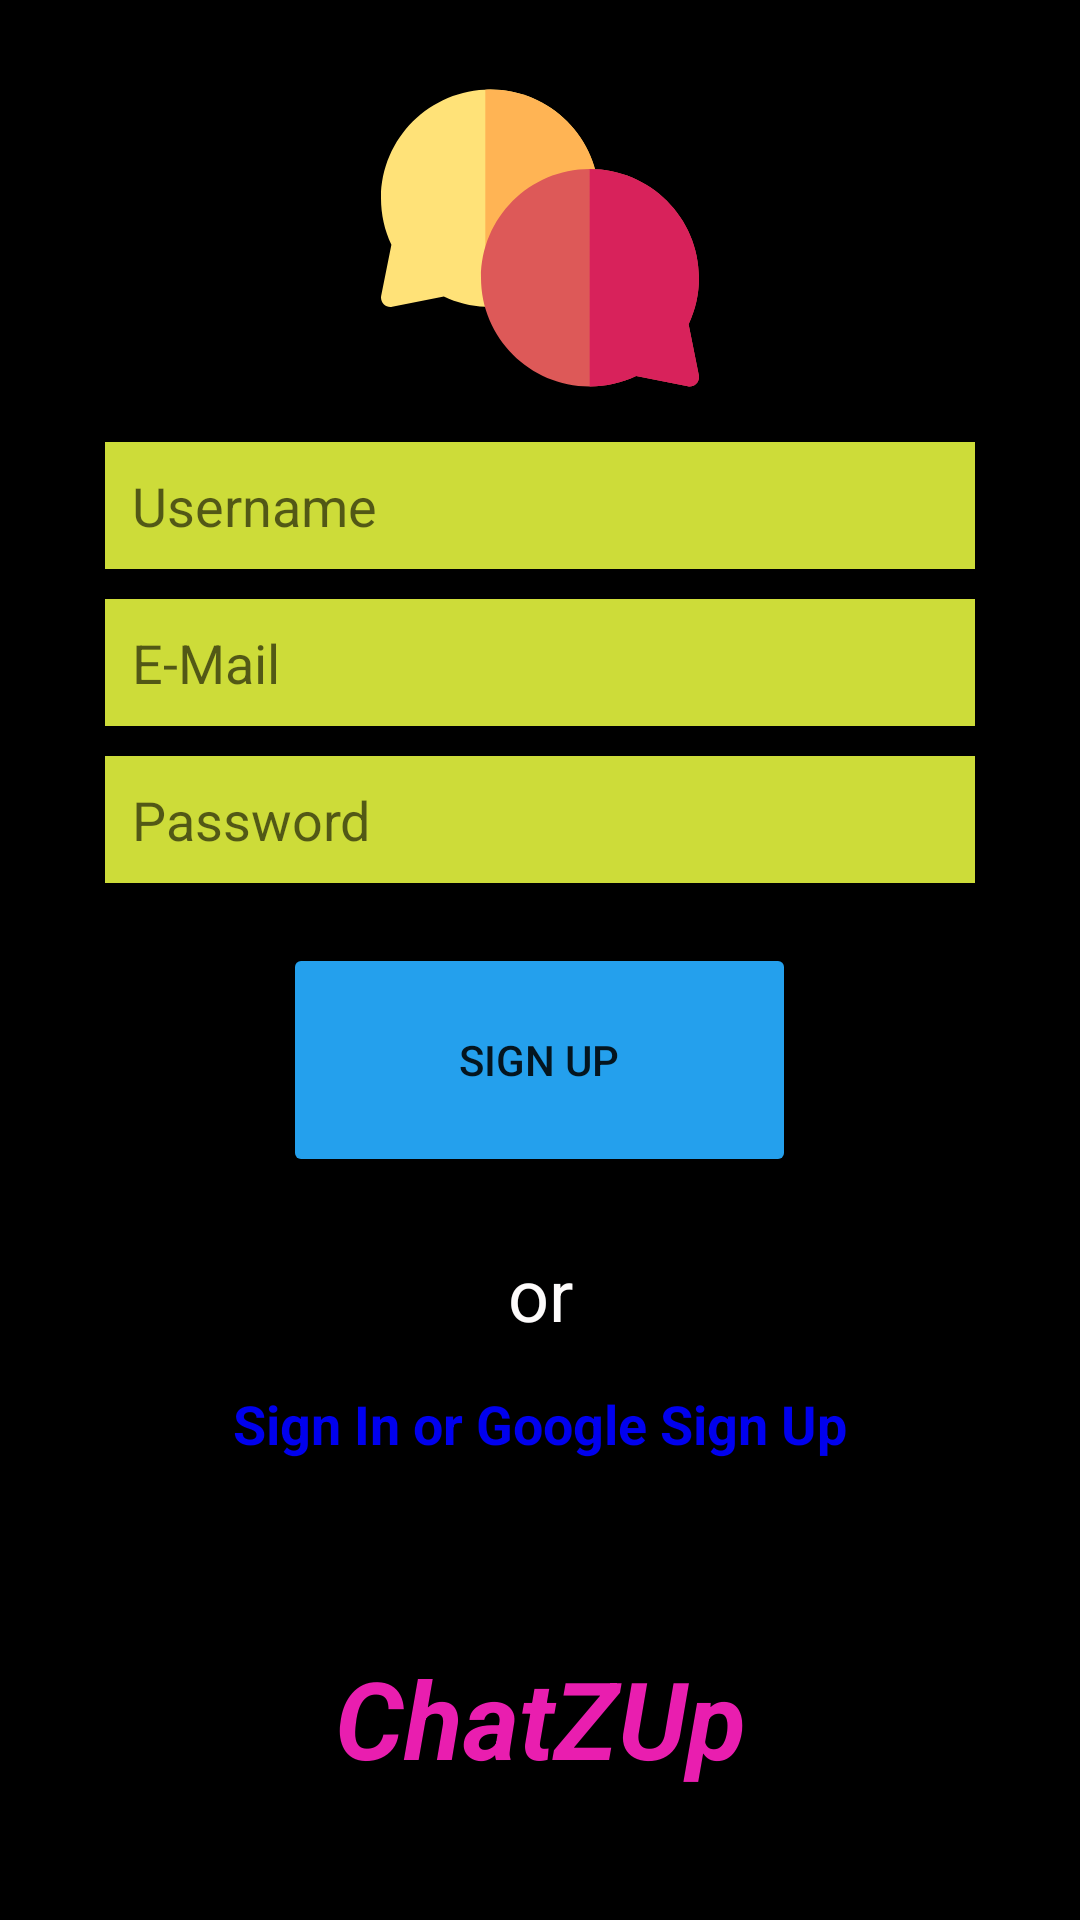

Icon bounding boxes for this 1080px x 1920px phone screenshot, format {"x1": x1, "y1": y1, "x2": x2, "y2": y2}:
chat: {"x1": 381, "y1": 89, "x2": 699, "y2": 387}
